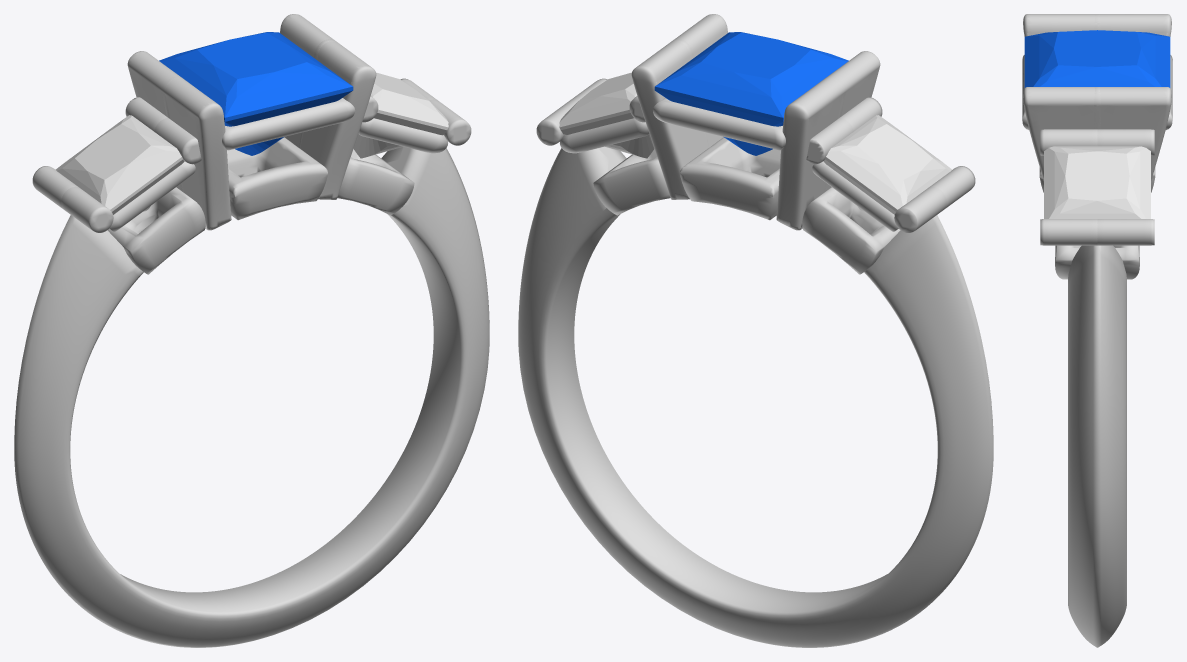
The model's file is bluesapphire-princess-platinum-halfmoonbezel-knifeedge-3stone.glb.
3 views of the same model, side by side, from view 1: azimuth 30°, elevation 25°; view 2: azimuth 150°, elevation 25°; view 3: azimuth 270°, elevation 25° (orthographic).
Visible parts, largest first — view 1: metal, stone, side.002, side; view 2: metal, stone, side.002, side; view 3: metal, stone, side.
Boxes of the visible parts, <box> form: metal: <box>14,14,489,647</box>; stone: <box>159,32,353,155</box>; side.002: <box>55,115,184,214</box>; side: <box>353,72,448,158</box>; metal: <box>518,14,993,647</box>; stone: <box>654,32,848,155</box>; side.002: <box>823,115,952,214</box>; side: <box>559,72,654,158</box>; metal: <box>1022,14,1172,647</box>; stone: <box>1024,30,1170,87</box>; side: <box>1044,146,1150,218</box>.
Bounding box in the file's own units: 20.1 × 23.65 × 5.6.
